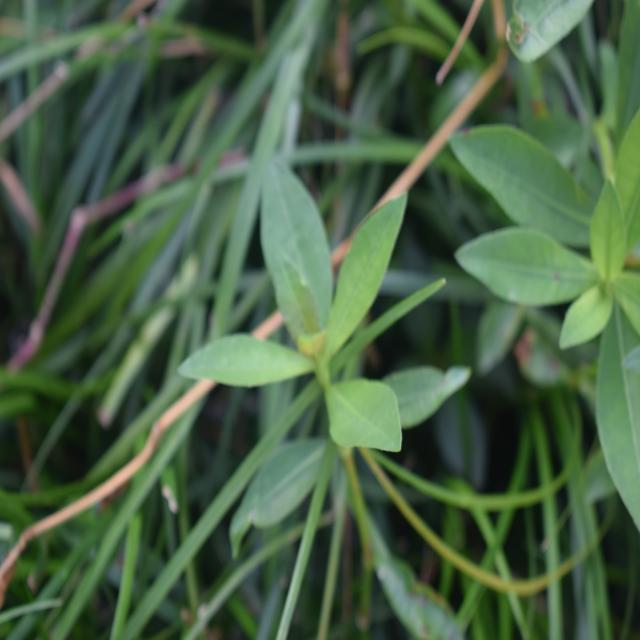Alligatorweed: (183, 174, 420, 527)
